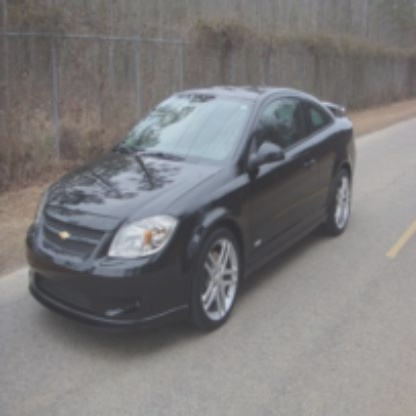Vehicle: (26, 84, 356, 333)
